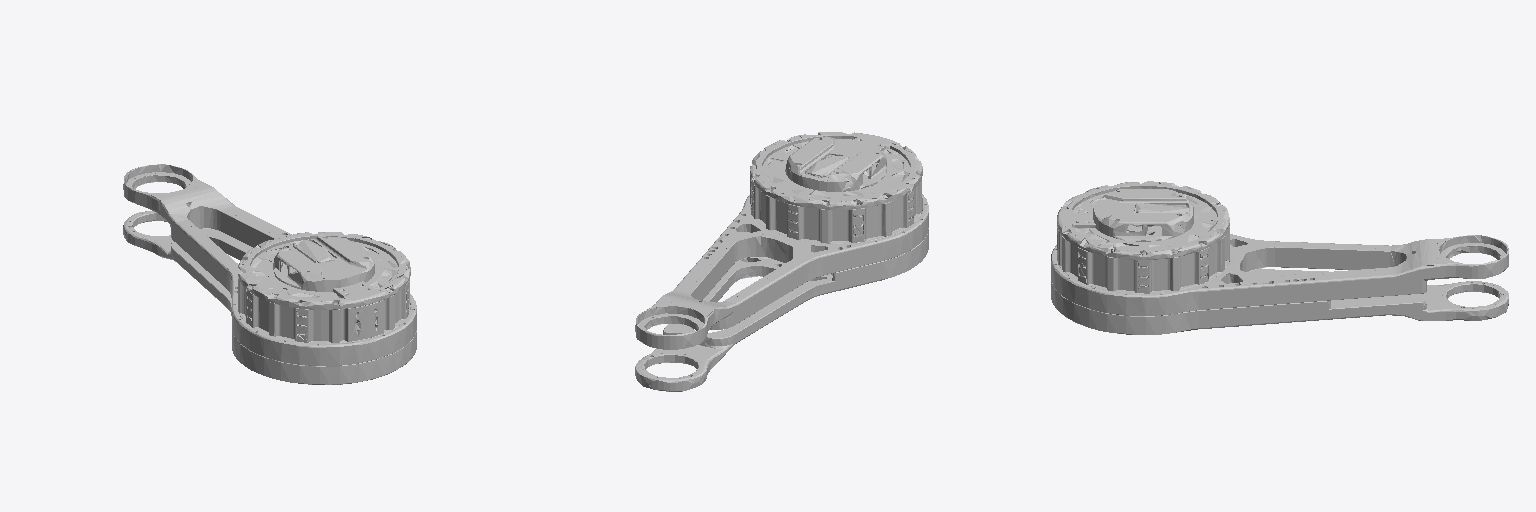
File: right_thigh_pitch_link.obj
3 views of the same model, side by side, from view 1: azimuth 30°, elevation 25°; view 2: azimuth 150°, elevation 25°; view 3: azimuth 270°, elevation 25° (orthographic).
Visible parts, largest first — view 1: right_thigh_pitch_link; view 2: right_thigh_pitch_link; view 3: right_thigh_pitch_link.
Part boxes in pixels (left/top/right/bottom): right_thigh_pitch_link: left=123, top=164, right=416, bottom=384; right_thigh_pitch_link: left=635, top=132, right=928, bottom=391; right_thigh_pitch_link: left=1051, top=181, right=1508, bottom=334.
Bounding box in the file's own units: 0.18 × 0.1082 × 0.4449.